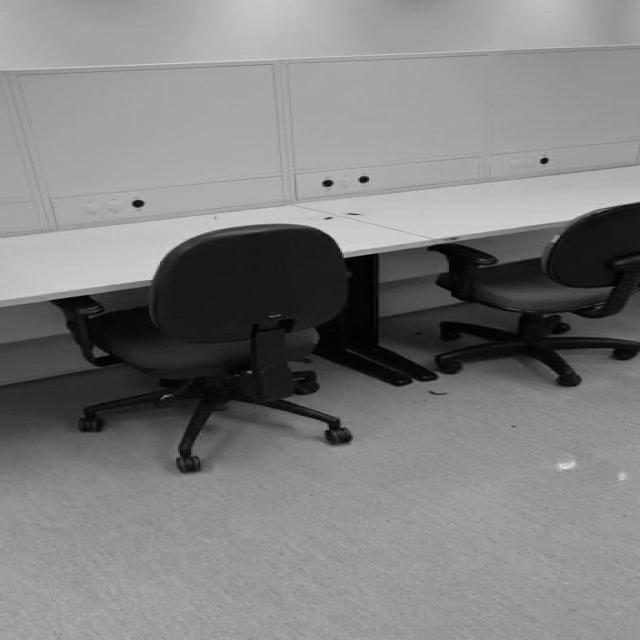cadeira-azul: (49, 224, 353, 472)
